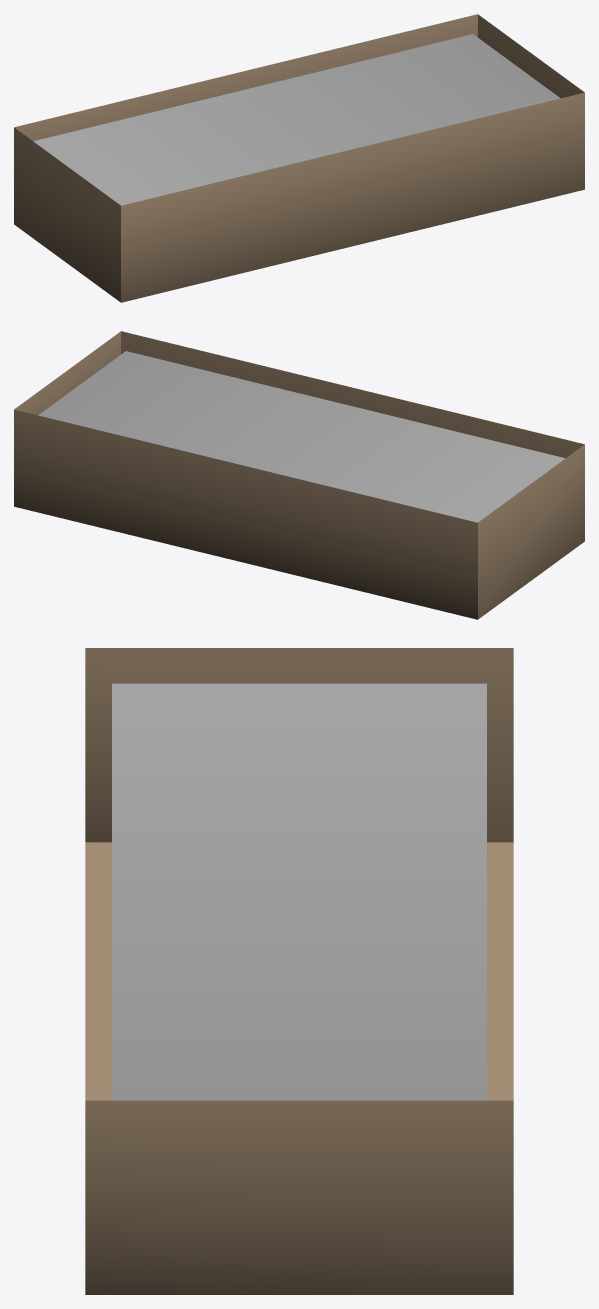
The model's file is planter.glb.
3 views of the same model, one above another, from view 1: azimuth 30°, elevation 25°; view 2: azimuth 150°, elevation 25°; view 3: azimuth 270°, elevation 25° (orthographic). The views are drawn at different scales.
Visible parts, largest first — view 1: planter; view 2: planter; view 3: planter.
Boxes of the visible parts, <box> form: planter: <box>14,14,584,302</box>; planter: <box>14,331,584,619</box>; planter: <box>85,648,513,1294</box>.
Bounding box in the file's own units: 2 × 0.4 × 0.8.
